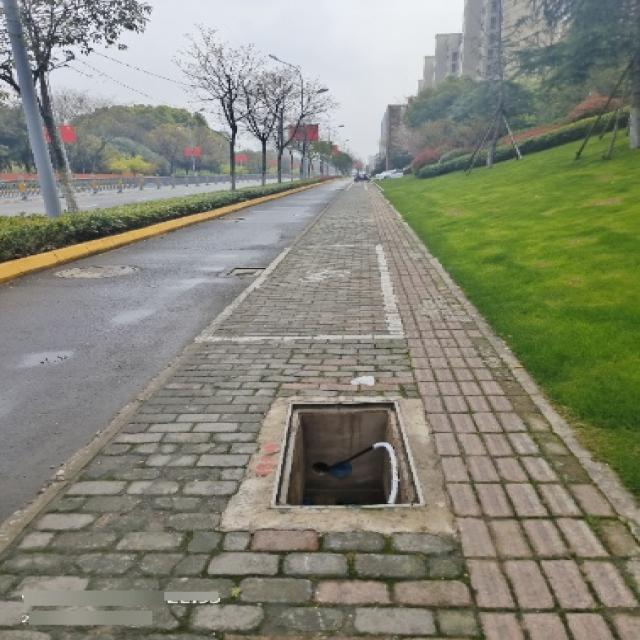Faulty: (275, 393, 435, 522)
Good: (49, 252, 145, 290)
